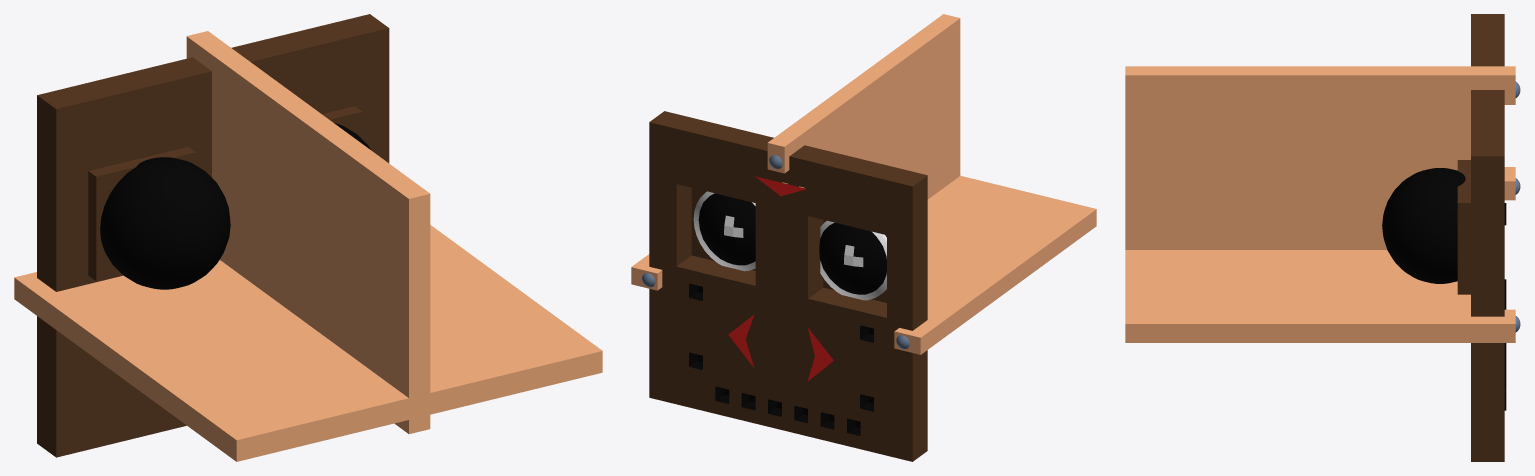
Rendered from JasonVoorhees.fbx.
3 renders of one model, left to right at view 1: azimuth 30°, elevation 25°; view 2: azimuth 150°, elevation 25°; view 3: azimuth 270°, elevation 25°, orthographic. The views are drawn at different scales.
Parts seen in each view (by area): view 1: Sphere.043; view 2: Sphere.043; view 3: Sphere.043.
Boxes of the visible parts, bbox=[...] form: Sphere.043: bbox=[14, 14, 602, 461]; Sphere.043: bbox=[631, 14, 1096, 461]; Sphere.043: bbox=[1125, 14, 1520, 461].
Size of the model in its own units: 110 by 105 by 117.
